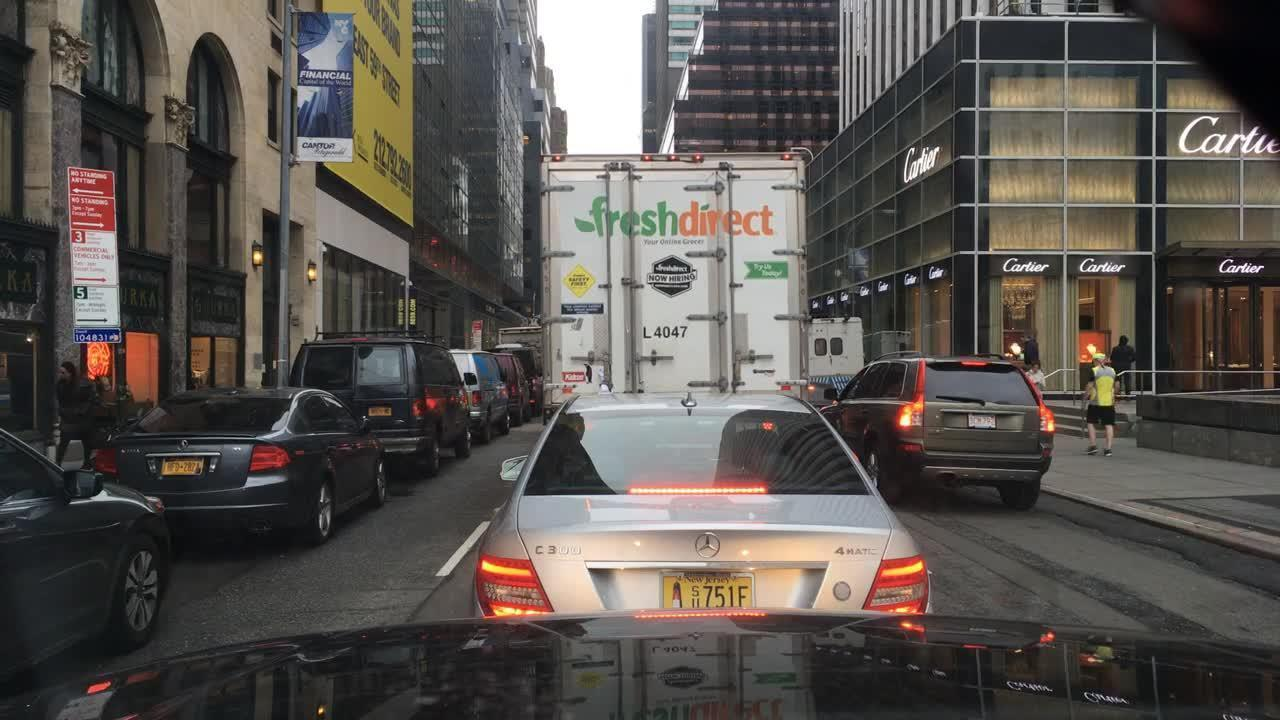Mercedes: (690, 526, 723, 563)
